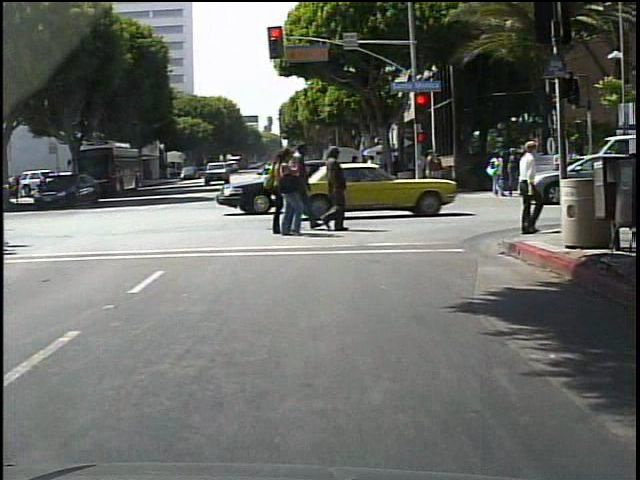person: (500, 138, 544, 241)
